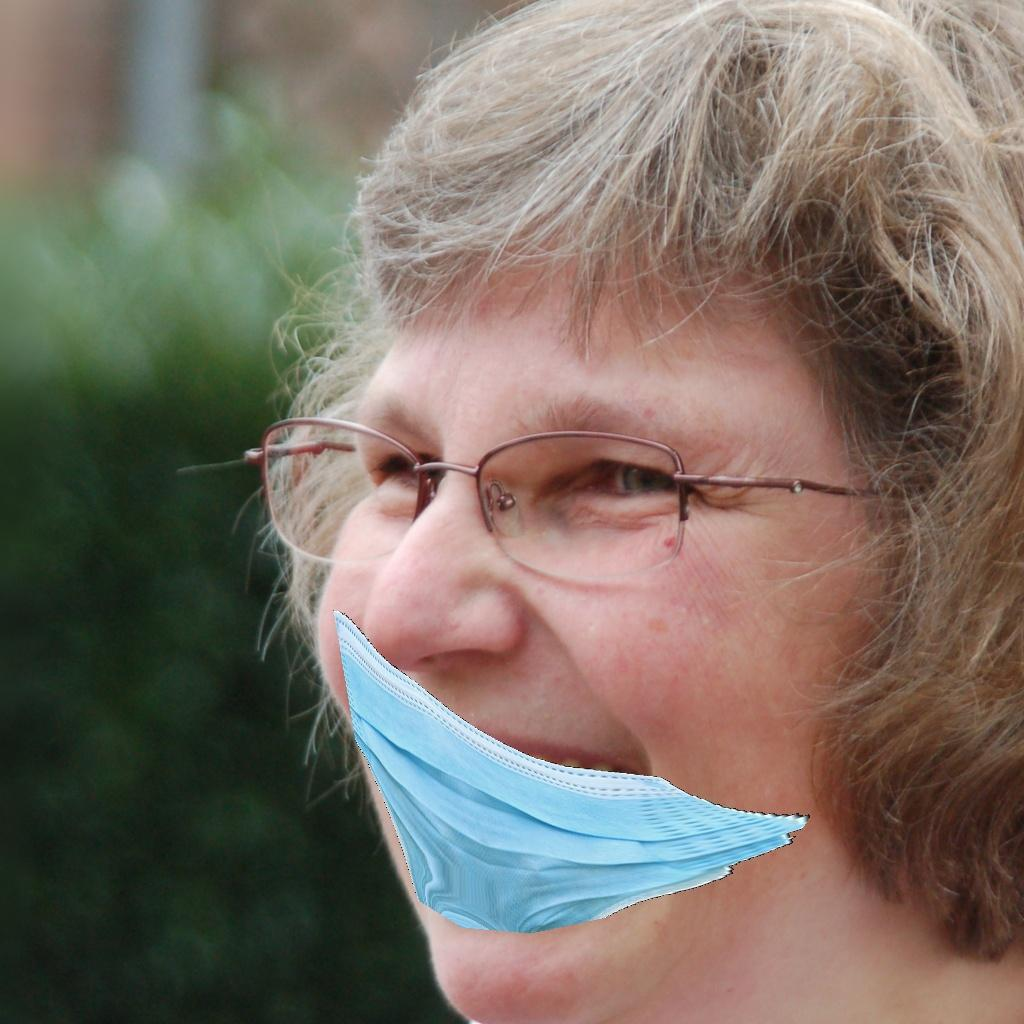Máscara Incorreta: (328, 292, 831, 952)
